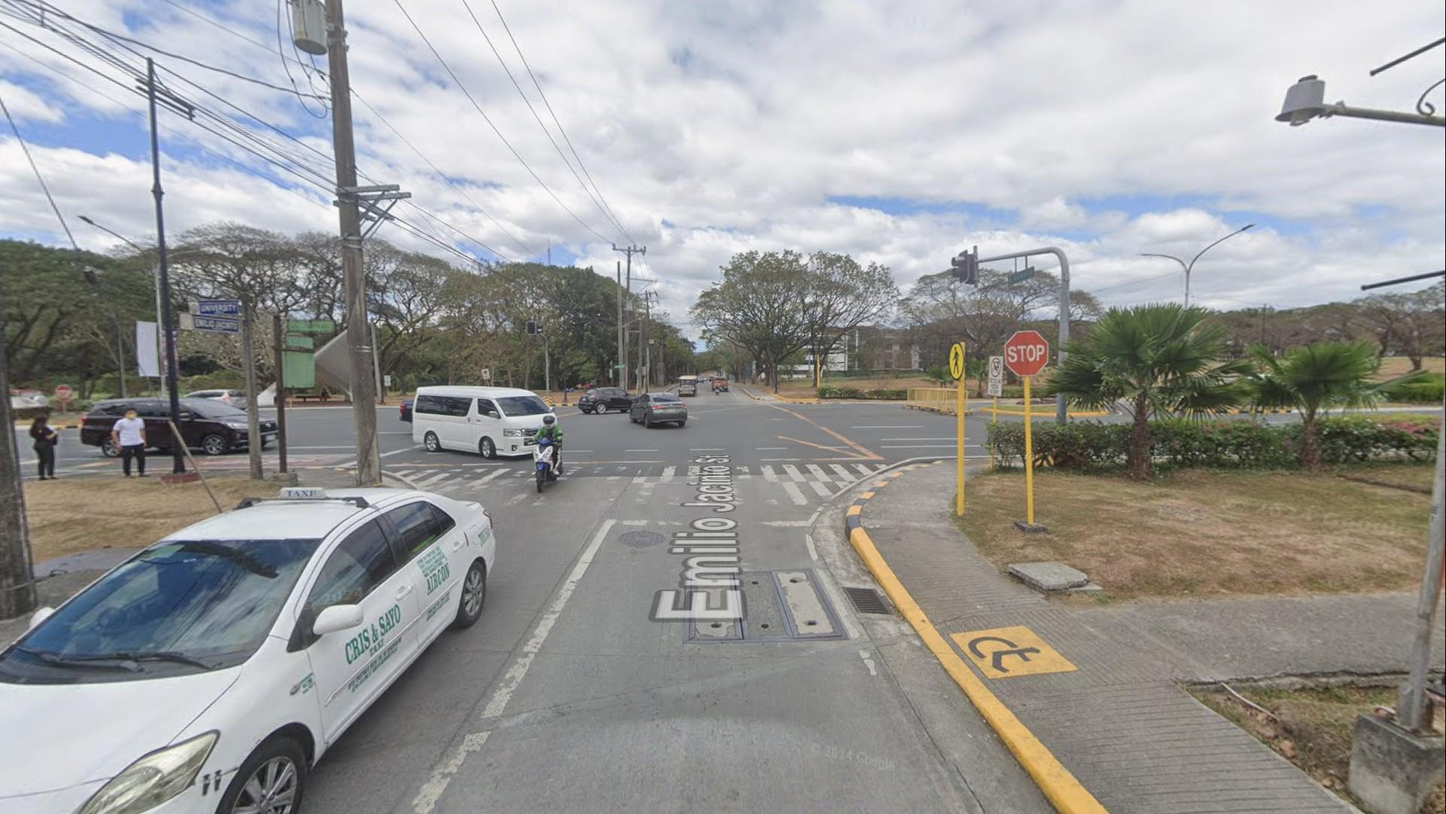pedestrian: (109, 407, 149, 479), (26, 405, 62, 484)
